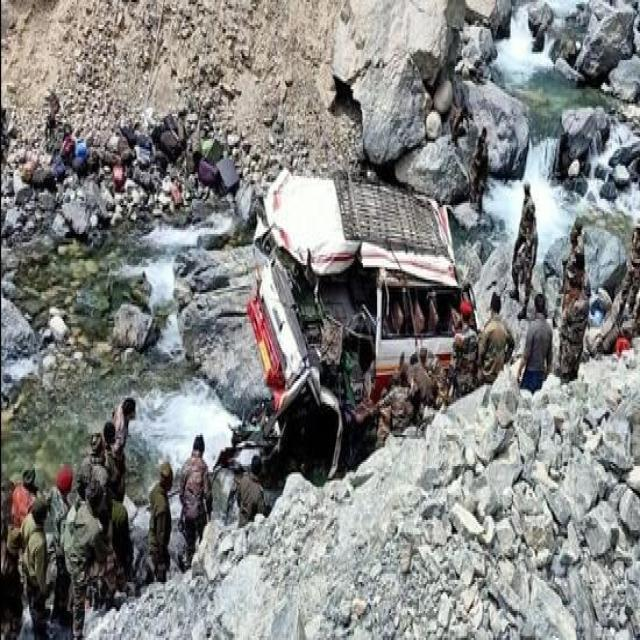accident: (247, 169, 475, 475)
